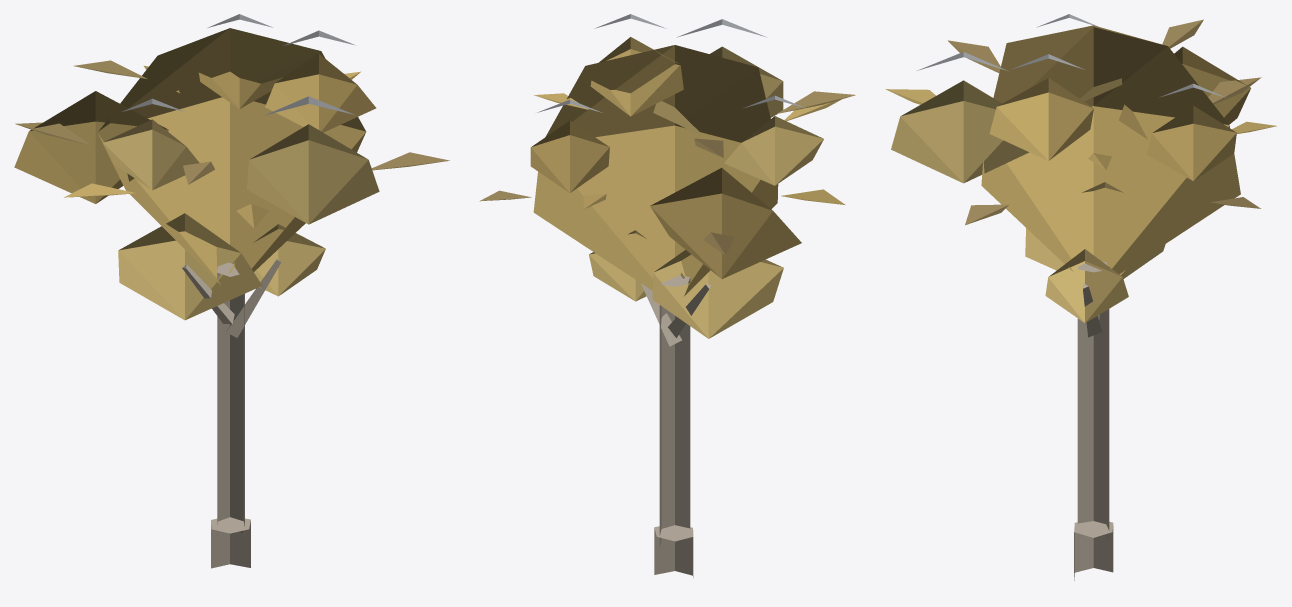
The model's file is shu.chuizhi@subadult__autumn.glb.
3 renders of one model, left to right at view 1: azimuth 30°, elevation 25°; view 2: azimuth 150°, elevation 25°; view 3: azimuth 270°, elevation 25°, orthographic. The views are drawn at different scales.
Visible parts, largest first — view 1: shu.chuizhi@subadult__autumn; view 2: shu.chuizhi@subadult__autumn; view 3: shu.chuizhi@subadult__autumn.
Part boxes in pixels (left/top/right/bottom): shu.chuizhi@subadult__autumn: left=14, top=14, right=449, bottom=568; shu.chuizhi@subadult__autumn: left=479, top=14, right=855, bottom=577; shu.chuizhi@subadult__autumn: left=885, top=14, right=1276, bottom=580.
Bounding box in the file's own units: 3.63 × 5.7 × 3.64.
